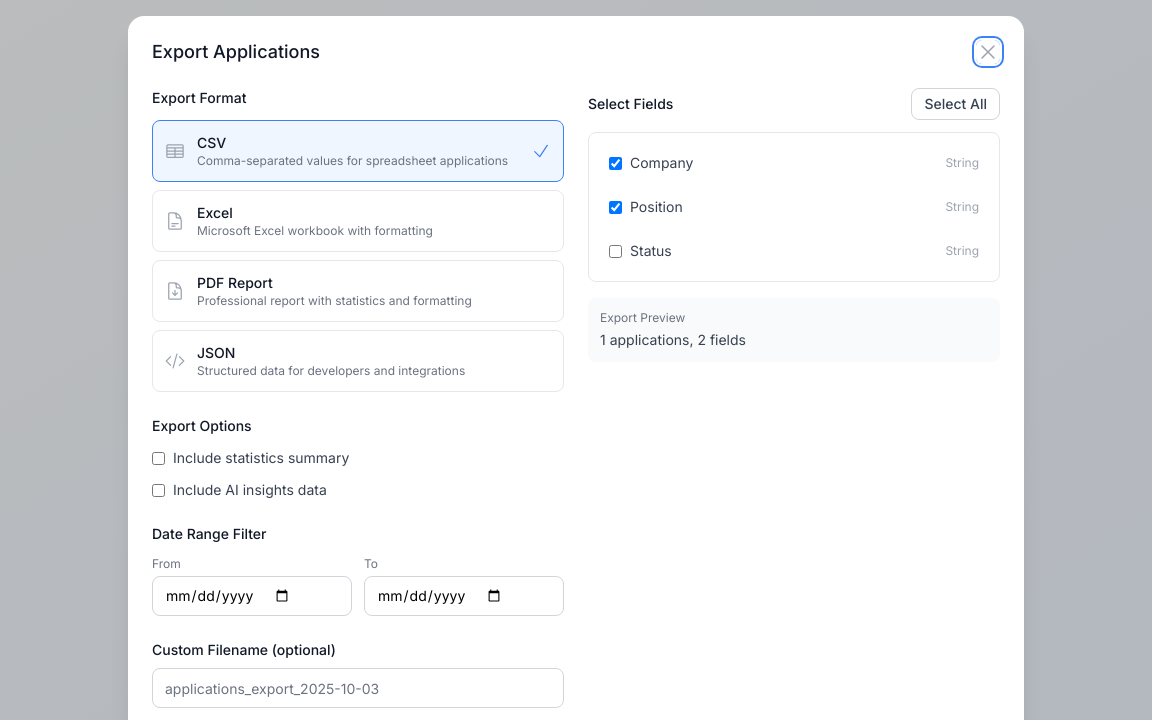
Test: ExportModal › updates export button text based on selected format
// Change to Excel
Click the radio button labelled "Excel Microsoft Excel workbook with formatting" at (358, 221), box [152,190,564,252]
(page scrolled)
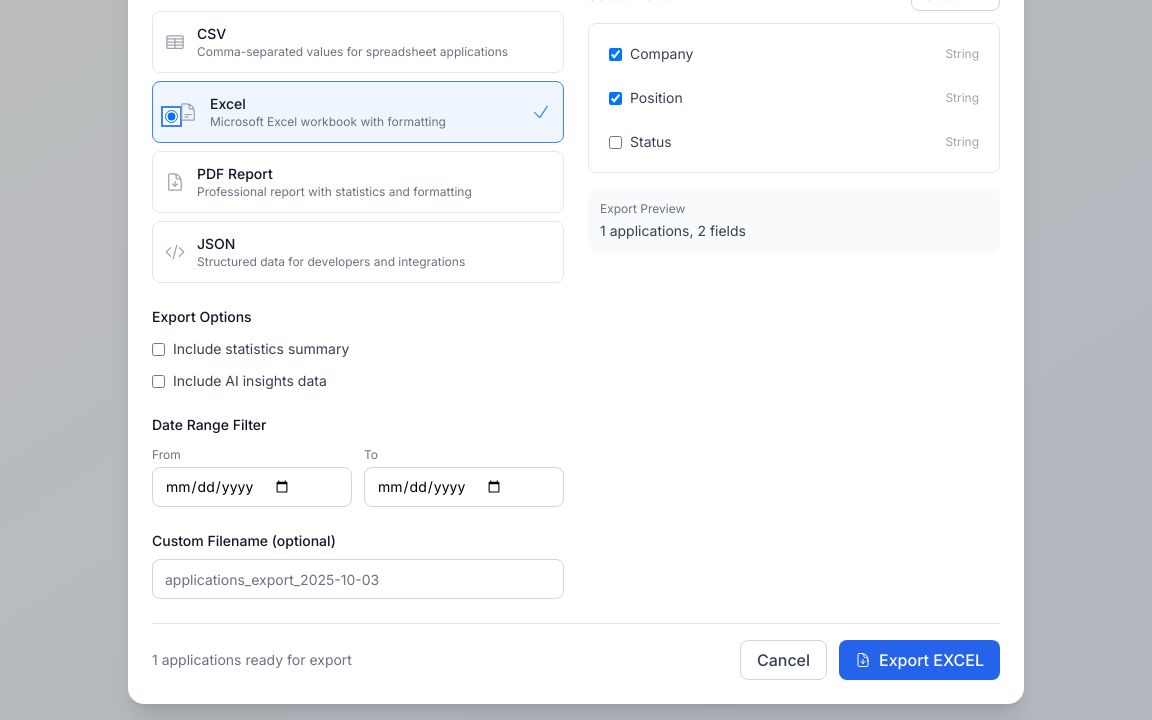
Check: the button "Export EXCEL" is shown, box [839,640,1000,680]
